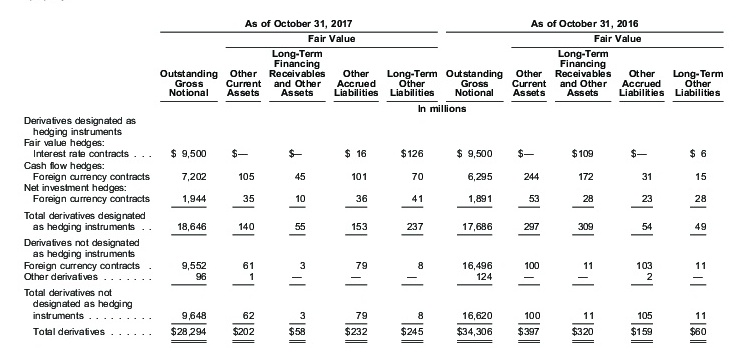table: (0, 0, 741, 355)
